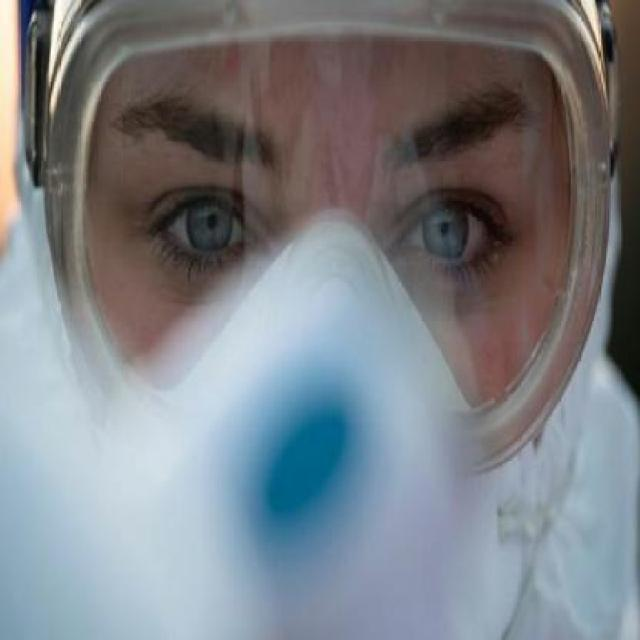glasses: (40, 2, 620, 480)
